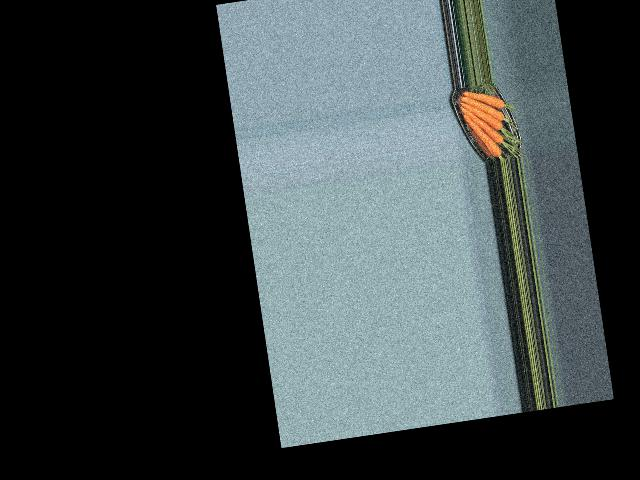carrot: (462, 85, 504, 110)
